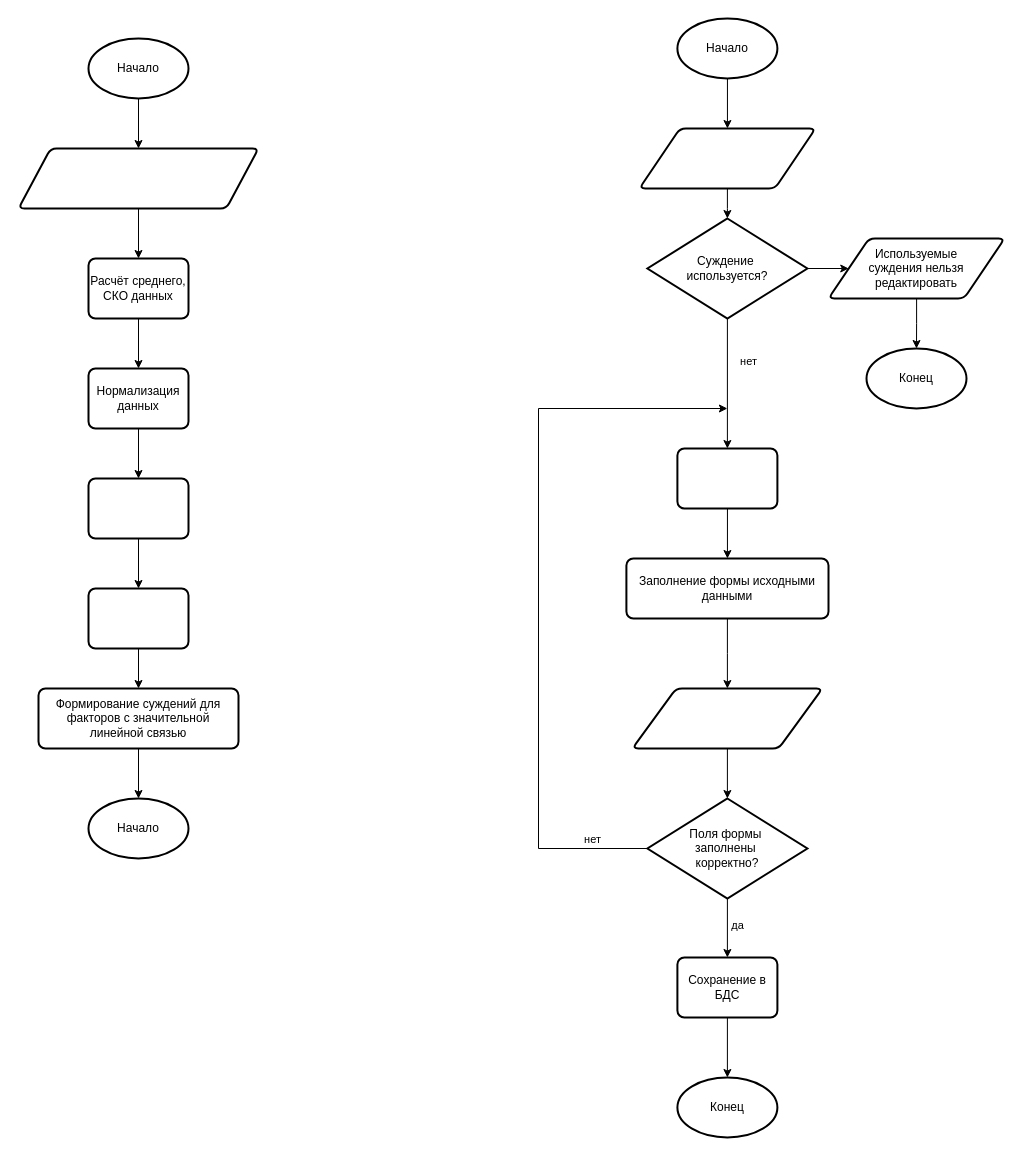
This 1023x1155 diagram has some shape labels left out. The shapes that lost their labels are listed below. From the top down, each one's centre as x and y in pixels, then its label:
At (138,178): "Ввод оценок результативности НИР и показателей кадрового потенциала".
At (727,158): "Исходные данные редактируемой строки из БДС".
At (727,478): "Открытие формы".
At (138,508): "Расчёт ковариаций".
At (138,618): "Расчёт корреляционных оценок".
At (727,718): "Нажатие сохранить".
